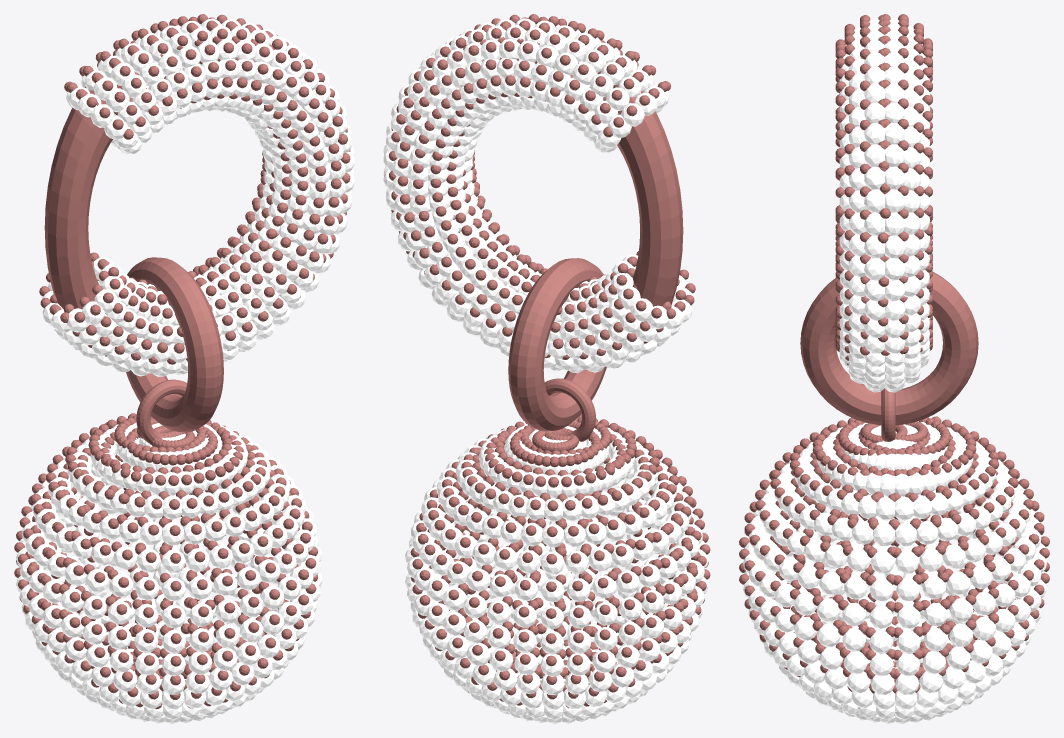
The model's file is ballearring.glb.
3 views of the same model, side by side, from view 1: azimuth 30°, elevation 25°; view 2: azimuth 150°, elevation 25°; view 3: azimuth 270°, elevation 25° (orthographic).
Visible parts, largest first — view 1: Torus.001, Torus.002, Torus.003; view 2: Torus.002, Torus.001, Torus.003; view 3: Torus.002, Torus.003.
Part boxes in pixels (x1,y1,x2,y2): Torus.001: (44, 86, 115, 309); Torus.002: (126, 257, 223, 432); Torus.003: (136, 379, 187, 443); Torus.002: (508, 258, 606, 431); Torus.001: (617, 90, 683, 306); Torus.003: (544, 378, 595, 441); Torus.002: (800, 271, 978, 425); Torus.003: (881, 388, 895, 441).
Bounding box in the file's own units: 2.47 × 5.27 × 2.18.
